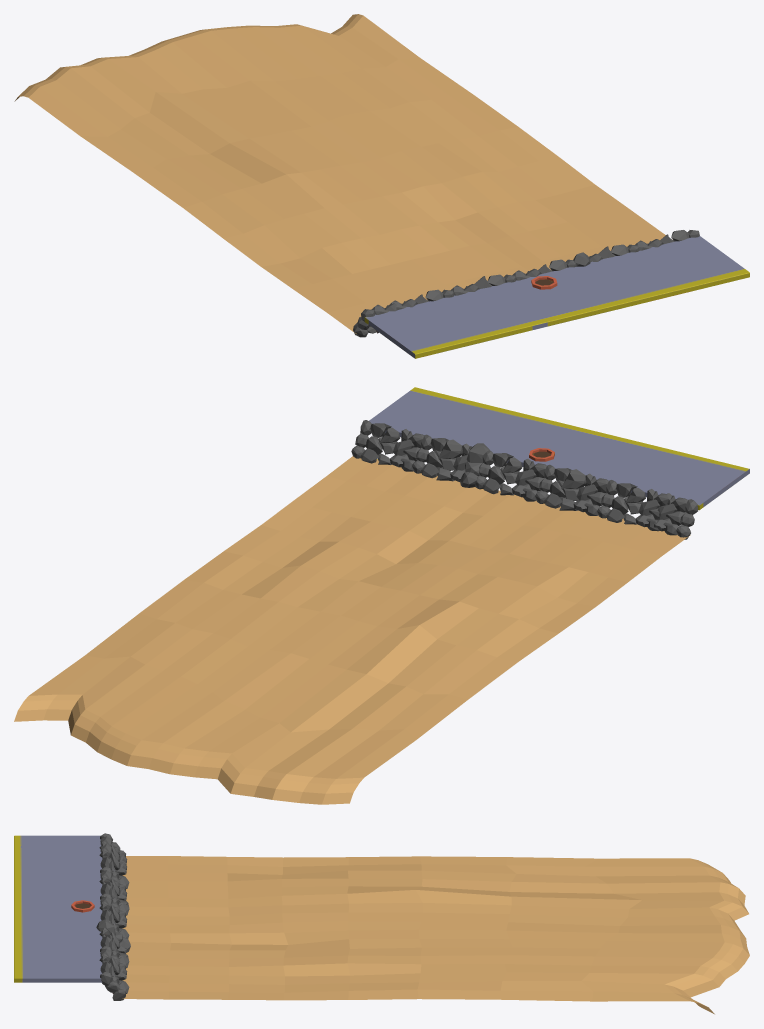
File: plage(1).fbx
3 renders of one model, top to bottom at view 1: azimuth 30°, elevation 25°; view 2: azimuth 150°, elevation 25°; view 3: azimuth 270°, elevation 25°, orthographic. The views are drawn at different scales.
Visible parts, largest first — view 1: plage; view 2: plage; view 3: plage.
Boxes of the visible parts, bbox=[...] form: plage: bbox=[14, 14, 749, 358]; plage: bbox=[14, 387, 749, 804]; plage: bbox=[14, 833, 749, 1014].
Bounding box in the file's own units: 14943 × 2203 × 32406.
